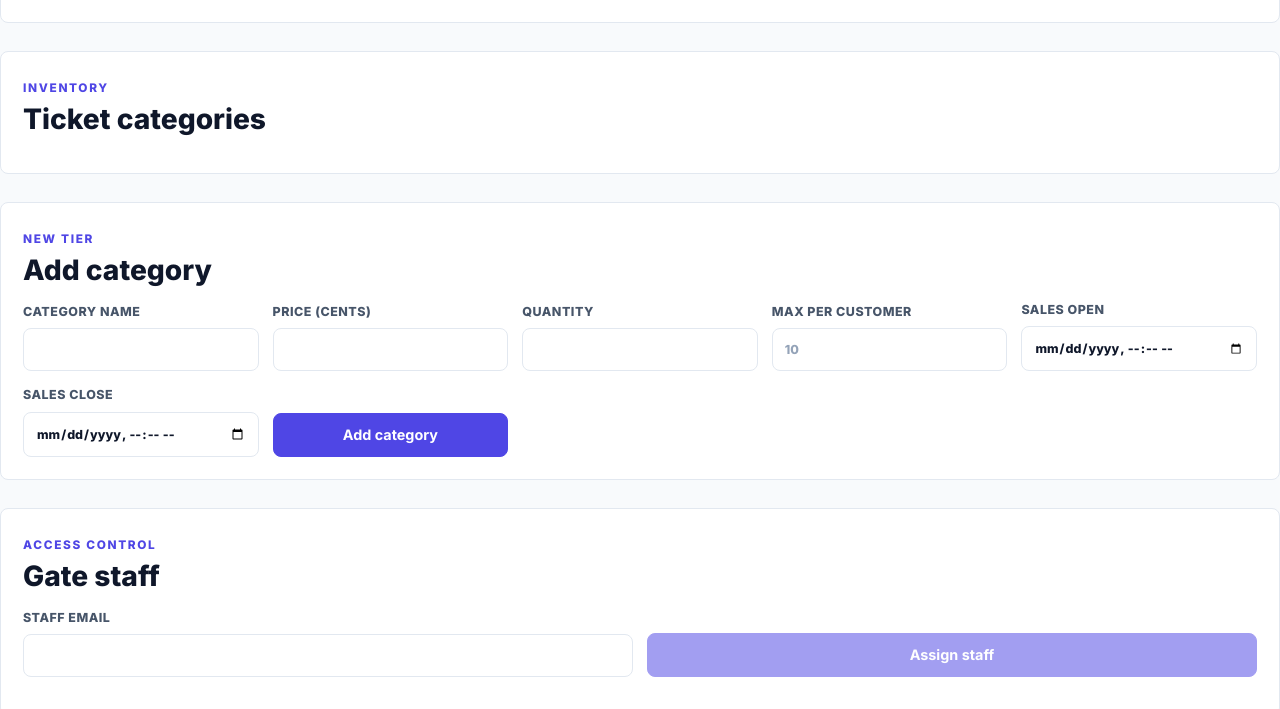
Test: OrganizerEvent › adds a ticket category
The image size is (1280, 709).
(page scrolled)
In the field labelled "Category name": [141, 350] box [23,328,259,371], type "VIP"
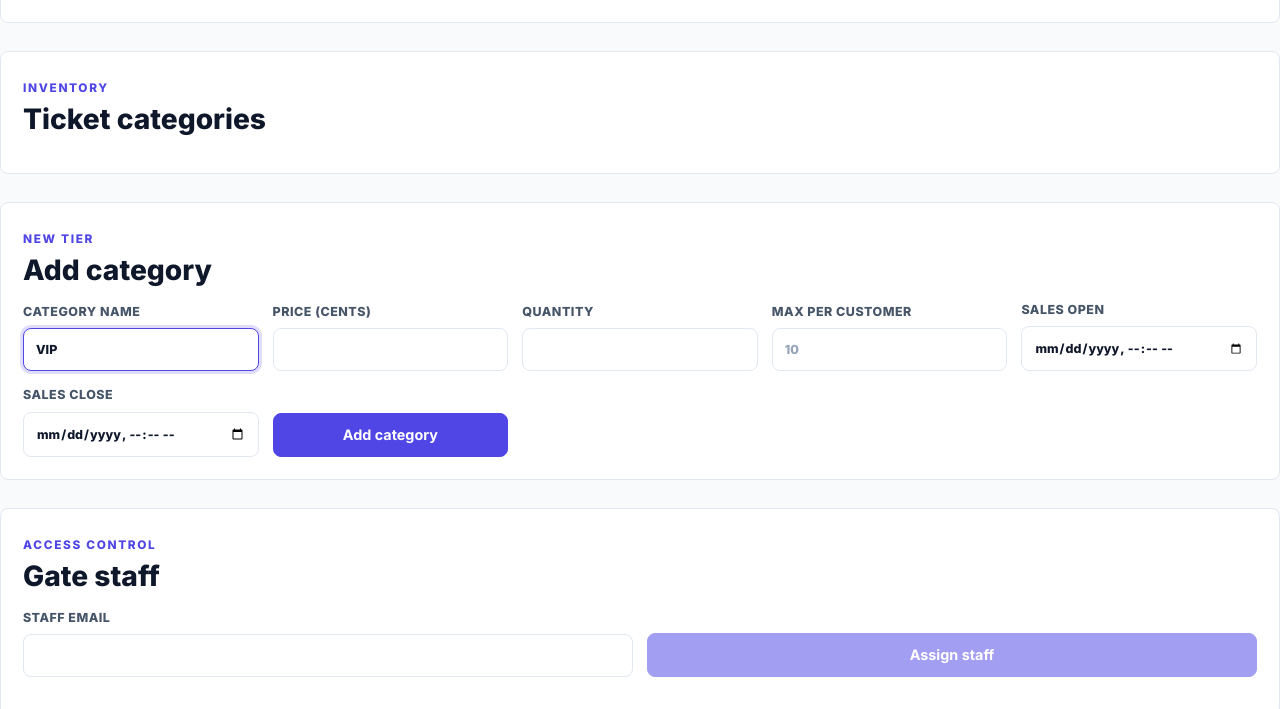
In the number field labelled "Price (cents)": [390, 350] box [273,328,508,371], type "5000"
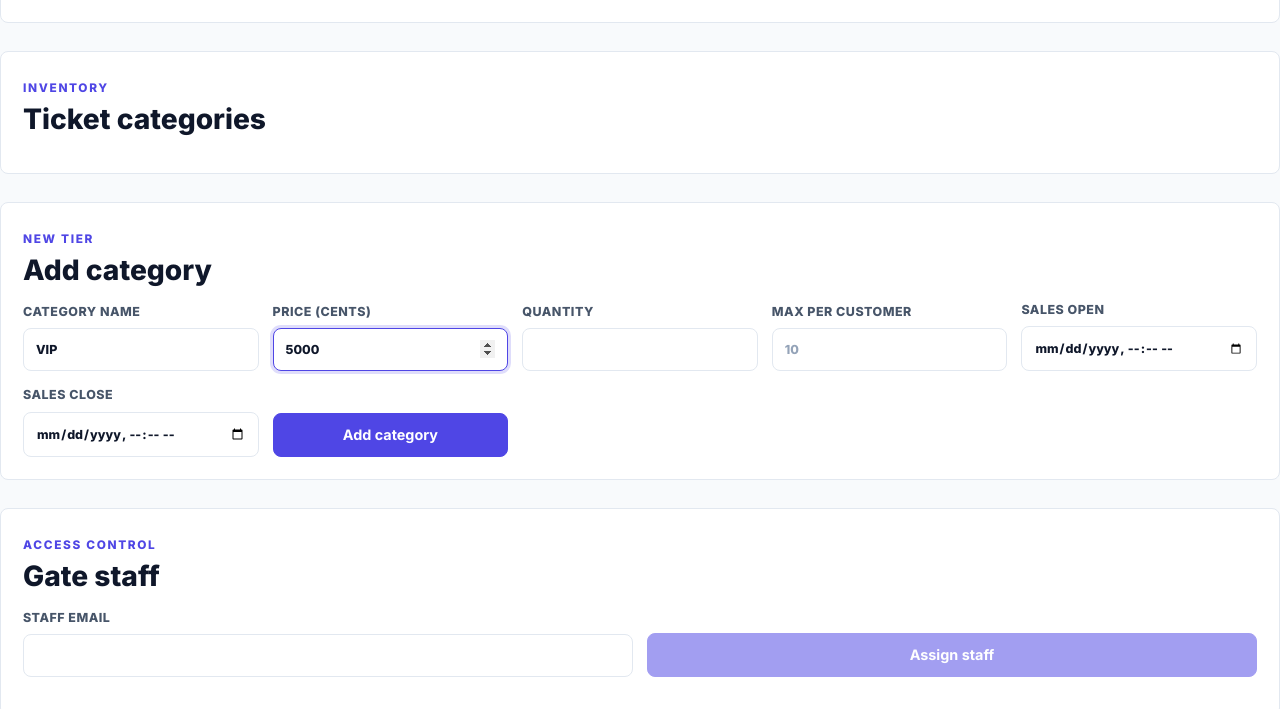
In the number field labelled "Quantity": [640, 350] box [522,328,758,371], type "20"
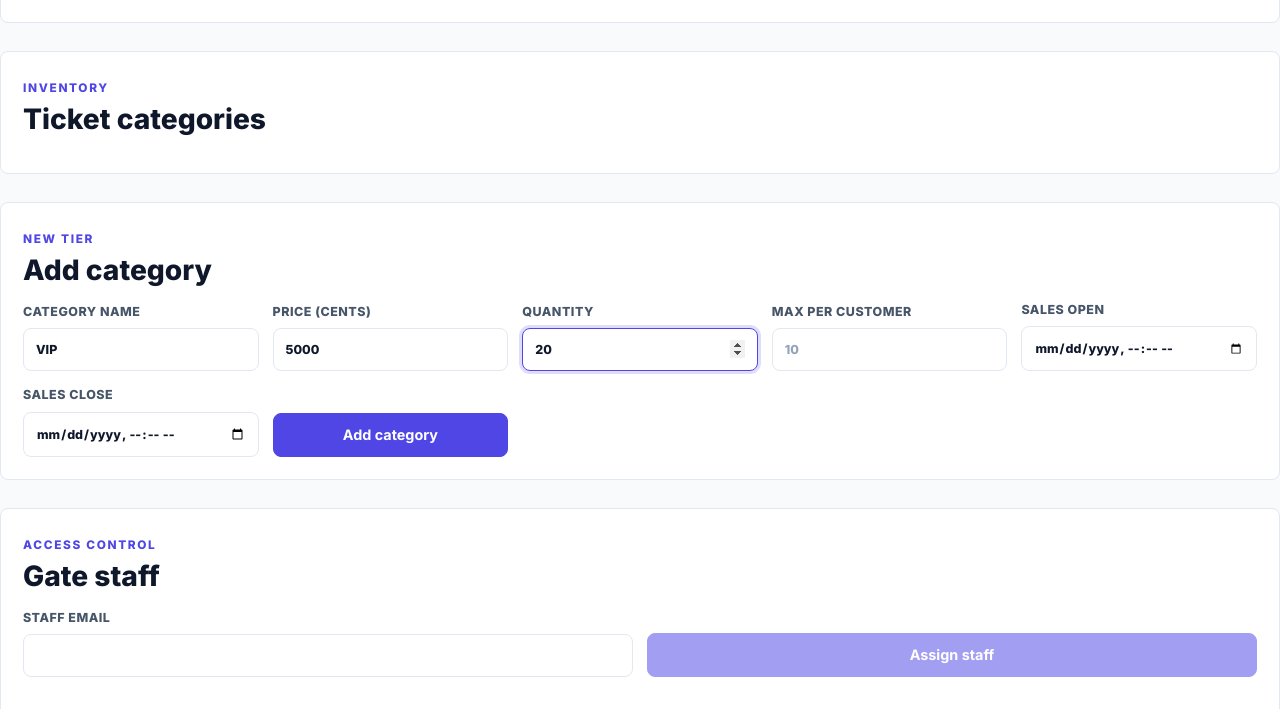
Click the button "Add category": [390, 435] box [273,413,508,457]
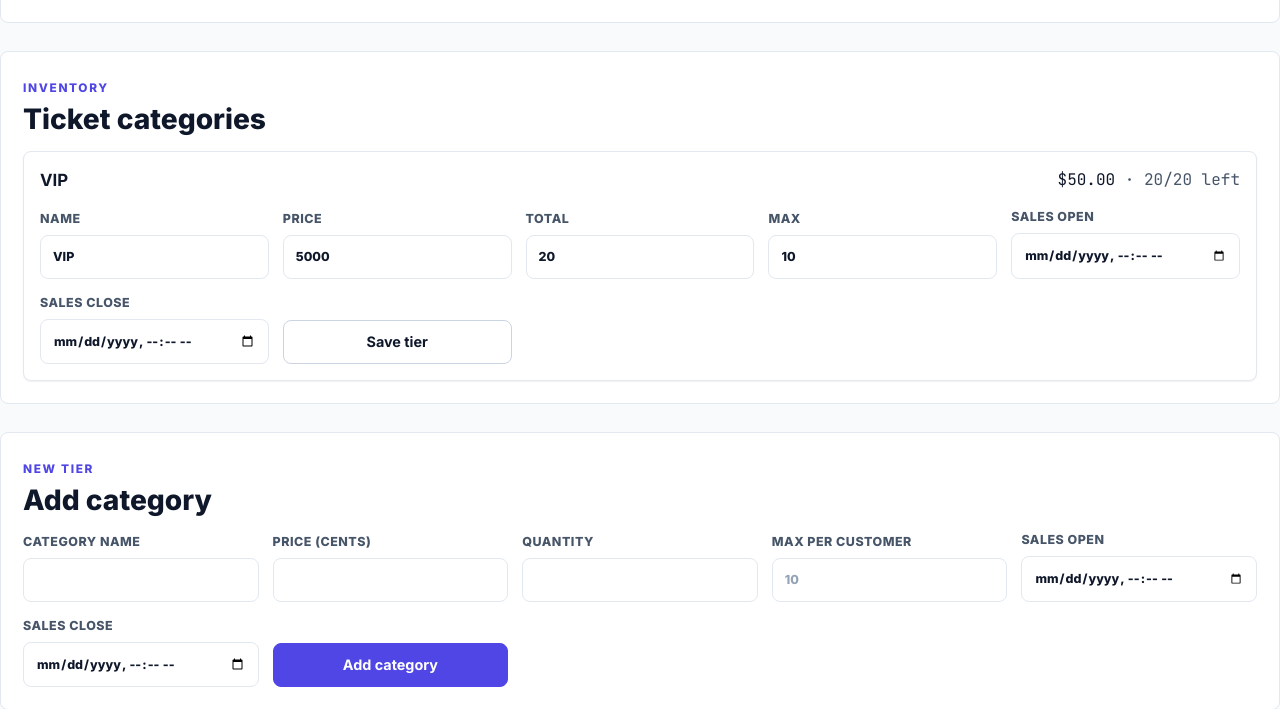
Check: the heading "VIP" is shown, box [40,172,68,189]
